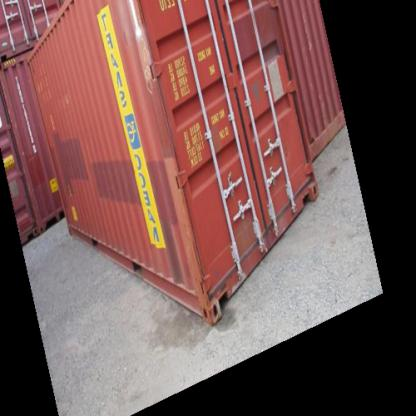Damage: (231, 190, 285, 284), (170, 193, 210, 314), (118, 0, 158, 91)
